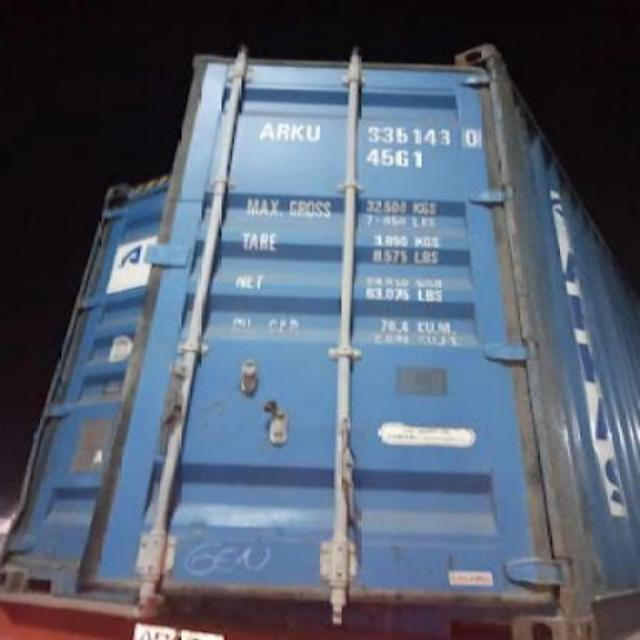0: (464, 127, 478, 145)
1: (410, 122, 422, 144)
3: (366, 124, 382, 144), (438, 127, 452, 147), (384, 124, 396, 144)
4: (422, 124, 438, 146)
5: (398, 122, 410, 146)
A: (256, 121, 278, 141)
K: (290, 121, 306, 142)
R: (276, 120, 290, 140)
U: (306, 121, 322, 142)
